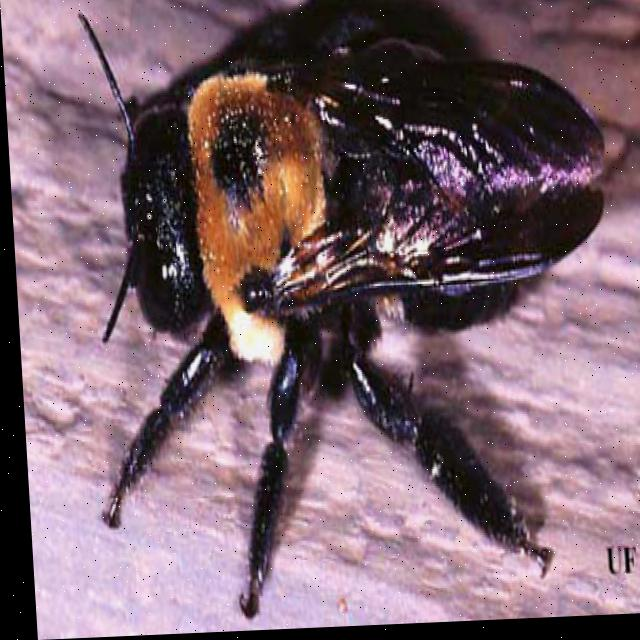Xylocopa: (67, 0, 640, 638)
